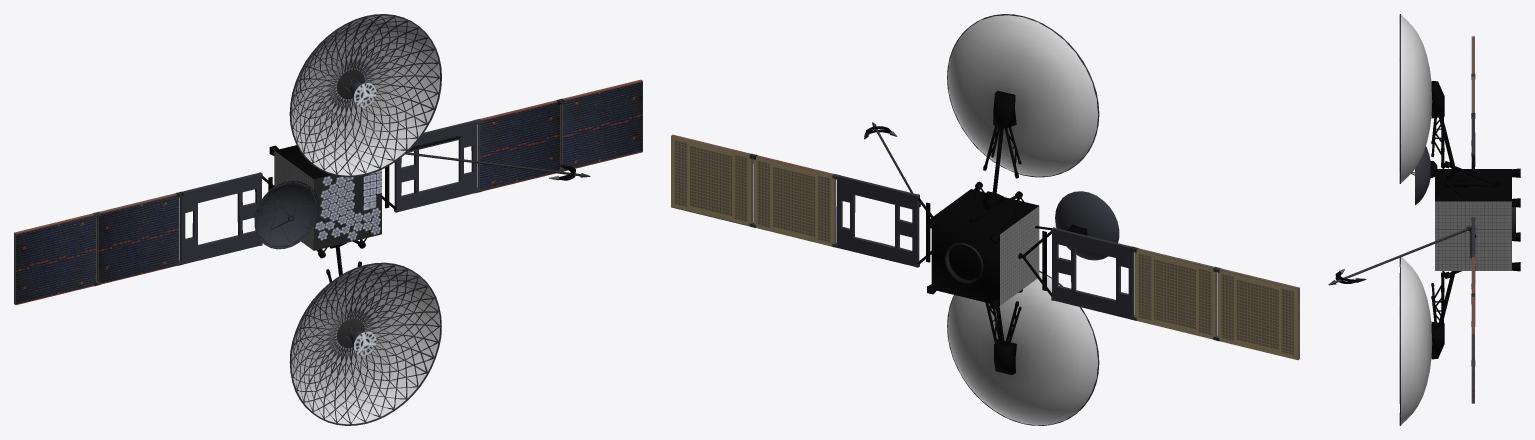
Rendered from tdrs.obj.
3 views of the same model, side by side, from view 1: azimuth 30°, elevation 25°; view 2: azimuth 150°, elevation 25°; view 3: azimuth 270°, elevation 25° (orthographic). The views are drawn at different scales.
Visible parts, largest first — view 1: geometry_2_2, geometry_4_4, geometry_0_0, geometry_1_1, geometry_3_3; view 2: geometry_2_2, geometry_4_4, geometry_3_3, geometry_0_0, geometry_1_1; view 3: geometry_4_4, geometry_0_0, geometry_3_3, geometry_2_2, geometry_1_1.
Boxes of the visible parts, x1,y1,x2,y2 form: geometry_2_2: (179,14,477,425); geometry_4_4: (291,15,440,424); geometry_0_0: (14,79,642,304); geometry_1_1: (93,69,590,348); geometry_3_3: (262,145,575,282); geometry_2_2: (671,14,1298,425); geometry_4_4: (947,15,1098,425); geometry_3_3: (865,91,1087,374); geometry_0_0: (671,134,1299,359); geometry_1_1: (749,122,1220,341); geometry_4_4: (1400,15,1432,424); geometry_0_0: (1435,36,1511,403); geometry_3_3: (1335,81,1520,359); geometry_2_2: (1399,14,1475,425); geometry_1_1: (1328,73,1515,365).
Size of the model in its own units: 21.12 by 13.11 by 5.76.
Materials: 4 (3 with a texture image).
